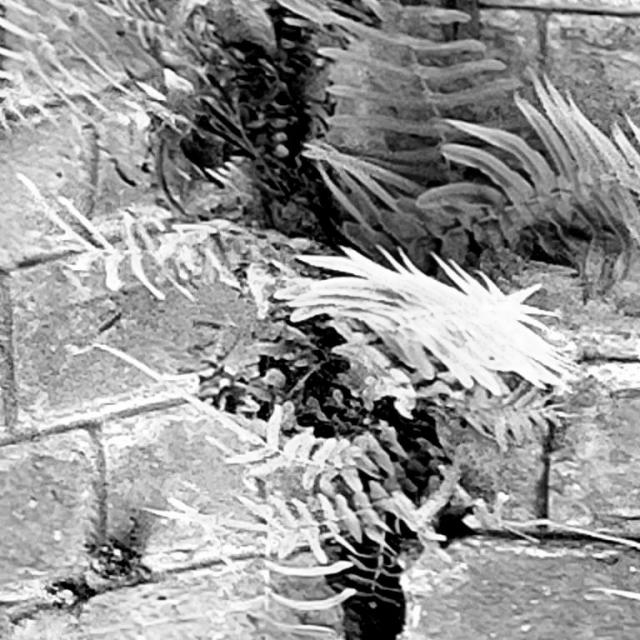crack: (264, 1, 474, 638)
